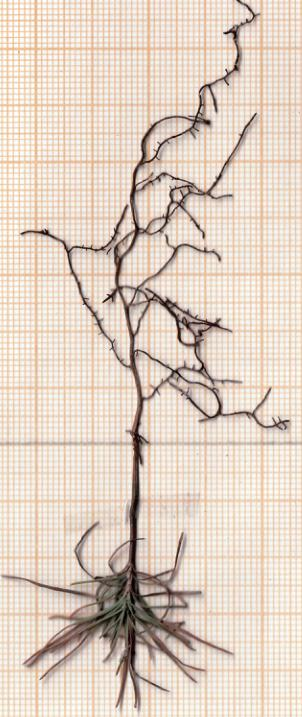flower: (5, 551, 240, 713)
root: (15, 1, 296, 435)
stem: (121, 431, 151, 553)
